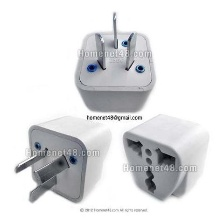three_eye_plug: (9, 111, 114, 207), (71, 8, 155, 114), (121, 116, 212, 203)
